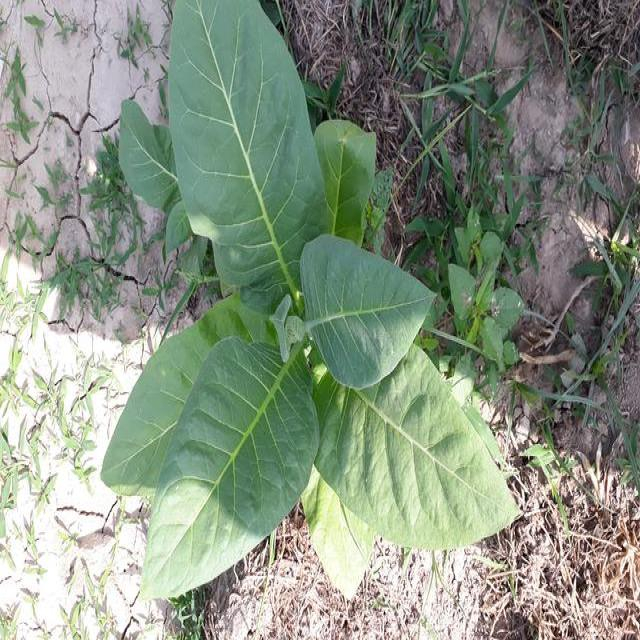crop: (97, 0, 516, 600)
